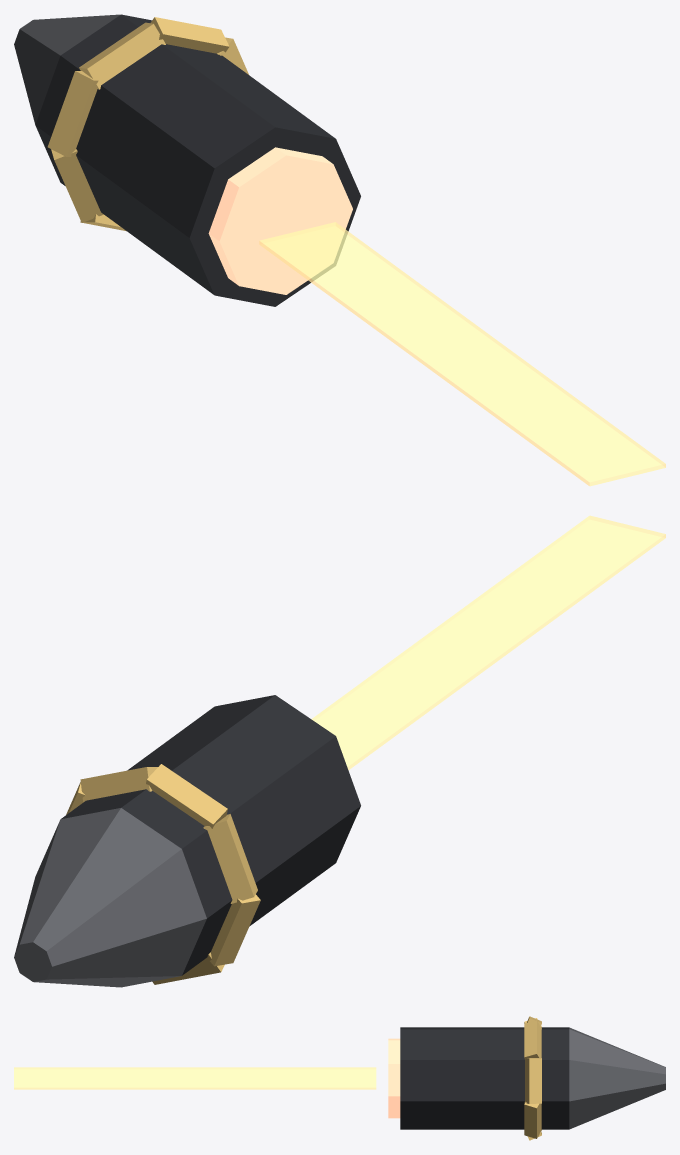
The model's file is Proj_AegisShell.fbx.
The picture shows the model from 3 angles, top to bottom: view 1: azimuth 30°, elevation 25°; view 2: azimuth 150°, elevation 25°; view 3: azimuth 270°, elevation 25°; orthographic projection. The views are drawn at different scales.
Parts seen in each view (by area): view 1: Shell_Body, Shell_Trail, Shell_Glow, Shell_Band, Shell_Nose; view 2: Shell_Body, Shell_Nose, Shell_Trail, Shell_Band; view 3: Shell_Body, Shell_Trail, Shell_Nose, Shell_Band, Shell_Glow.
Part boxes in pixels (x1,y1,x2,y2): Shell_Body: (35, 14, 360, 306); Shell_Trail: (259, 222, 665, 486); Shell_Glow: (208, 147, 352, 294); Shell_Band: (47, 17, 248, 231); Shell_Nose: (14, 14, 120, 124); Shell_Body: (61, 695, 360, 975); Shell_Nose: (14, 808, 206, 987); Shell_Trail: (311, 515, 665, 770); Shell_Band: (66, 764, 260, 984); Shell_Body: (400, 1027, 569, 1129); Shell_Trail: (14, 1067, 376, 1089); Shell_Nose: (569, 1027, 665, 1129); Shell_Band: (524, 1016, 541, 1140); Shell_Glow: (388, 1038, 400, 1118).
Bounding box in the file's own units: 0.1083 × 0.1083 × 0.54.
